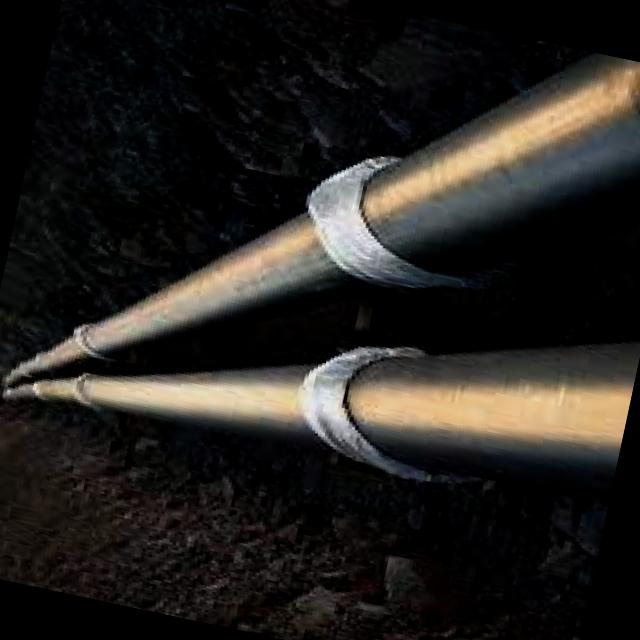gas: (363, 51, 640, 271), (5, 212, 346, 382), (349, 342, 640, 497), (2, 364, 321, 444)
